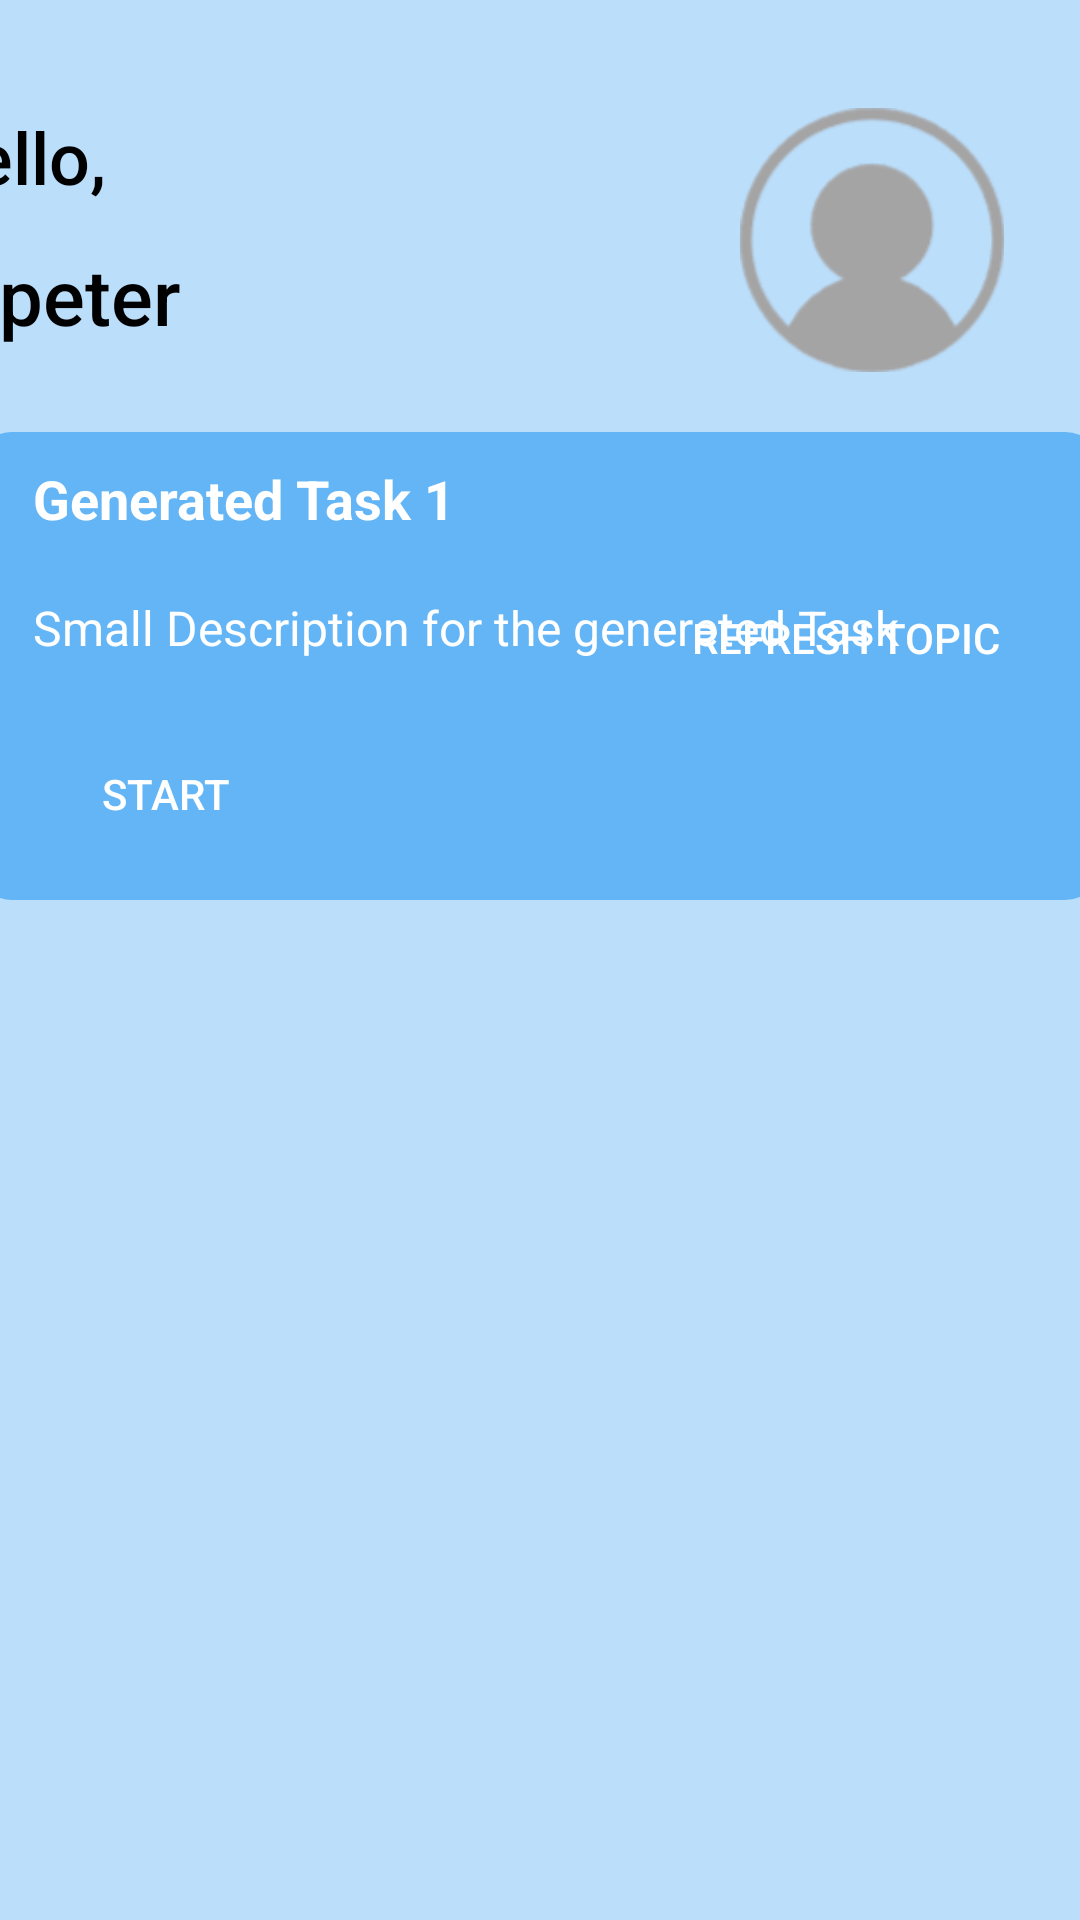

Icons on this 1080x1920 Android screen, each with its box as (x1, y1, x2, y2):
profile picture: (740, 108, 1004, 372)
